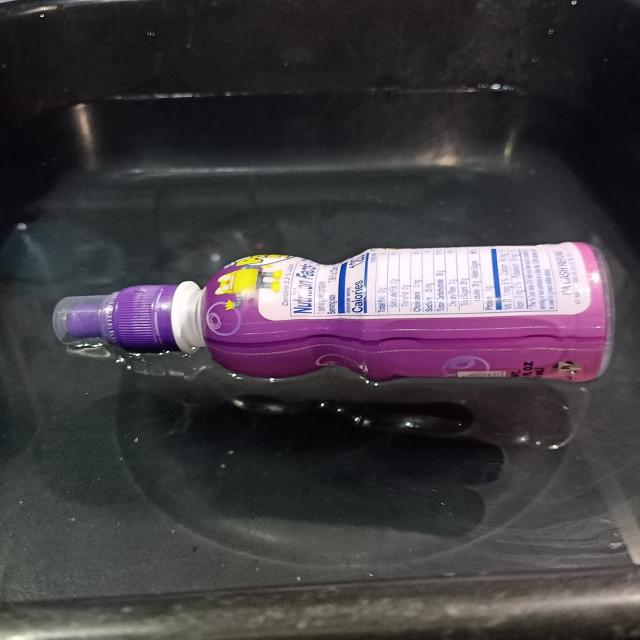Plastic Bottle: (53, 242, 613, 382)
